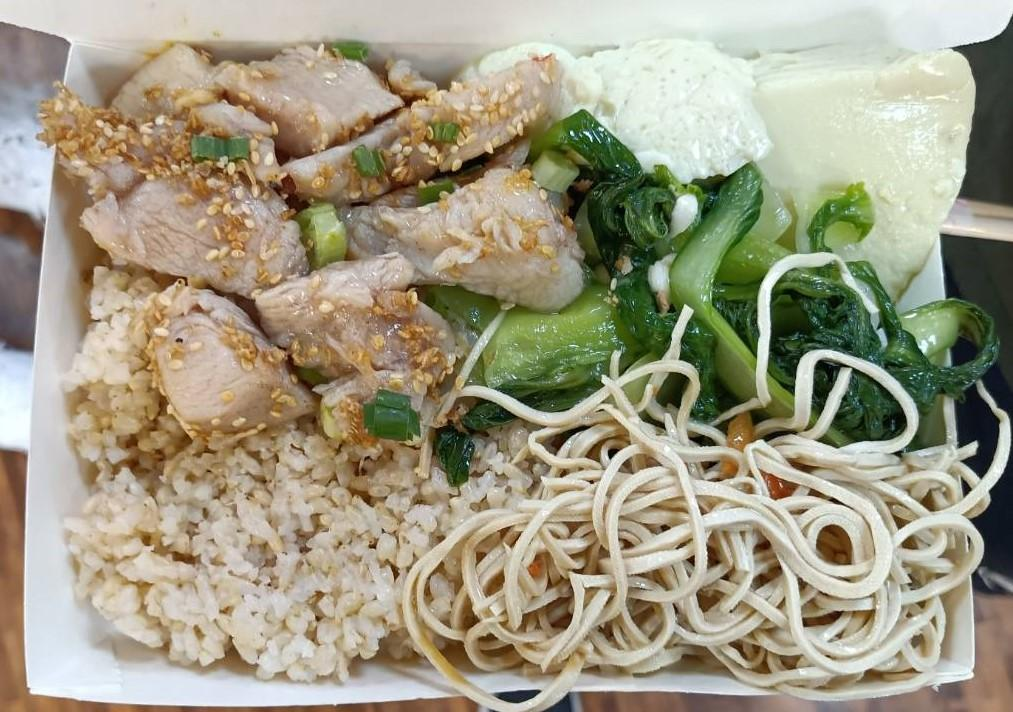big grilled chicken leg: (20, 17, 987, 699)
box: (58, 419, 520, 669)
braised fish fillet: (421, 419, 975, 677), (504, 152, 977, 441), (574, 42, 978, 268)
braised pork: (45, 45, 570, 449)
